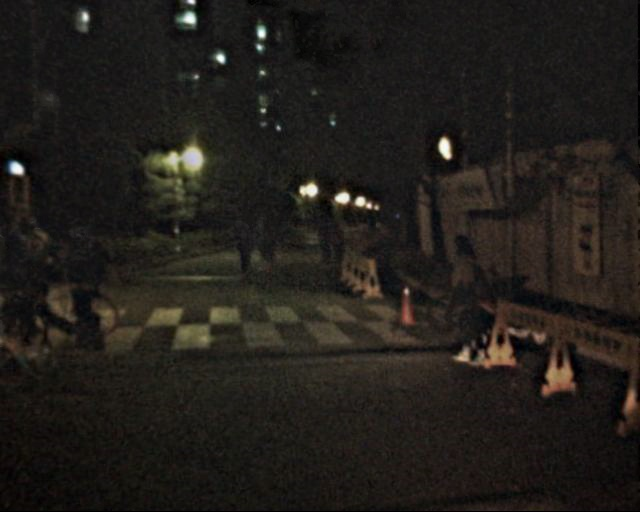person: (11, 213, 74, 344), (438, 235, 493, 369), (61, 217, 115, 350), (230, 216, 255, 278), (251, 213, 276, 274), (311, 216, 332, 266), (324, 219, 344, 267)
